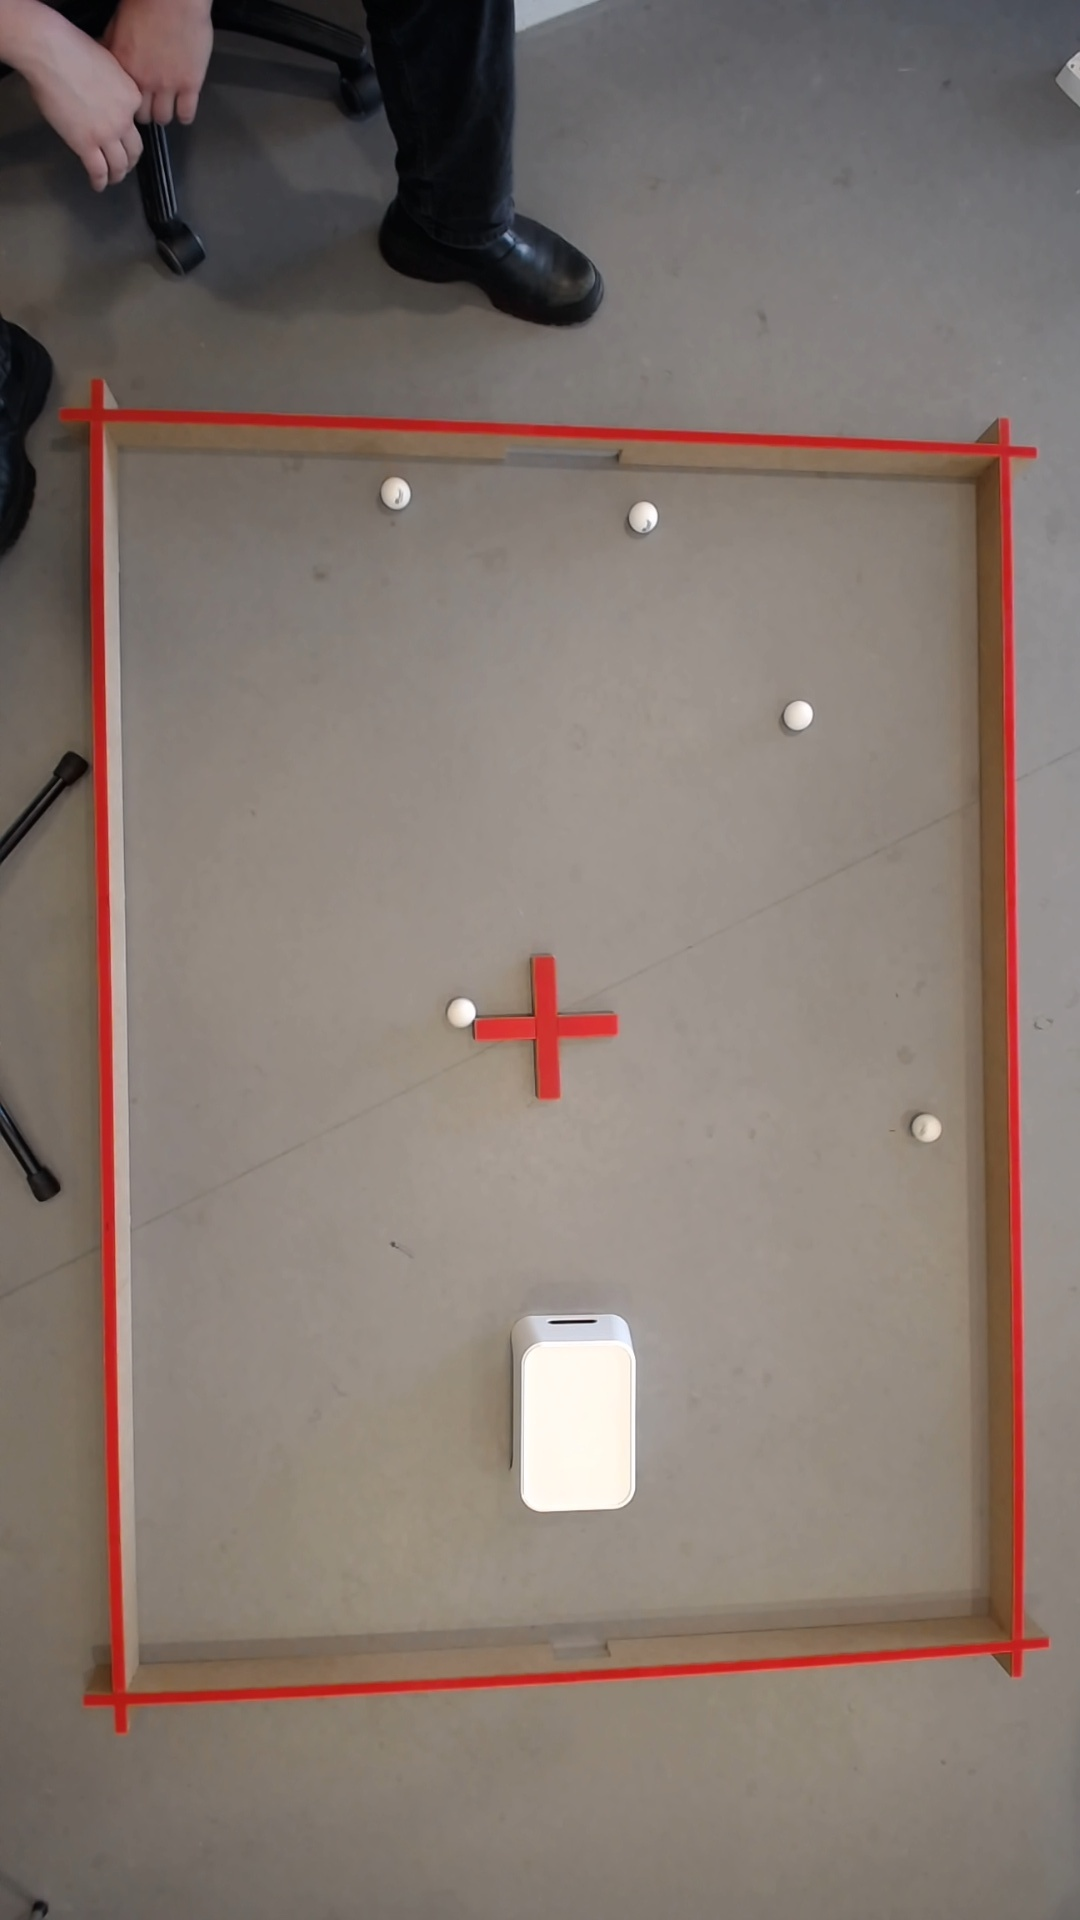balls: (783, 698, 816, 732), (446, 994, 479, 1027), (636, 502, 658, 527), (922, 1116, 942, 1141)
car: (629, 1360, 632, 1476)
